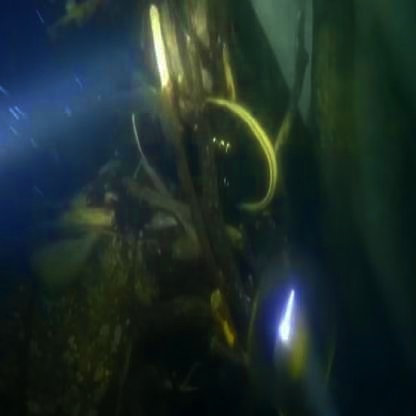misc: (66, 82, 300, 250)
